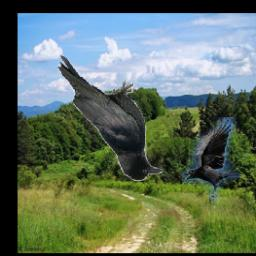Crow: (57, 55, 165, 182), (183, 117, 240, 202)
